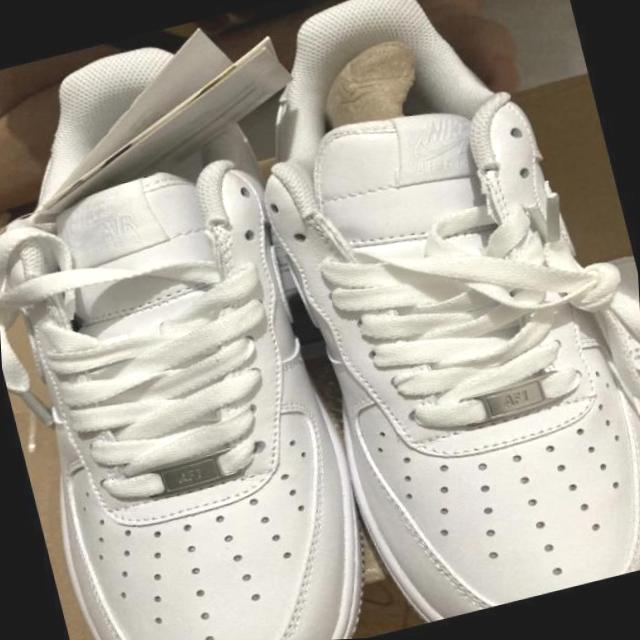nike_original_airforce: (218, 0, 640, 640), (0, 6, 384, 640)
